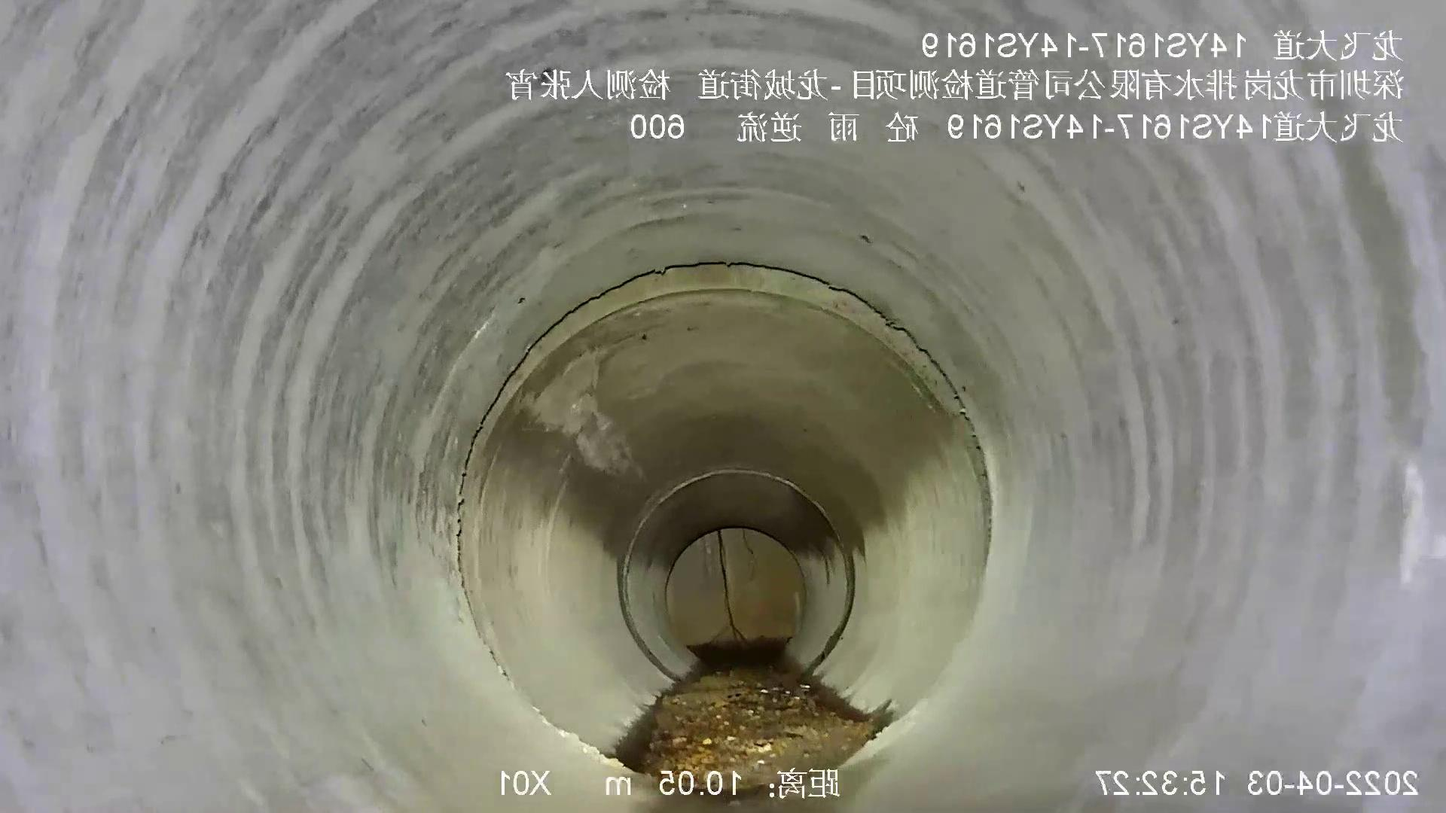CJ: (618, 638, 887, 796)
CKTJ: (454, 262, 993, 754), (618, 467, 857, 679)
